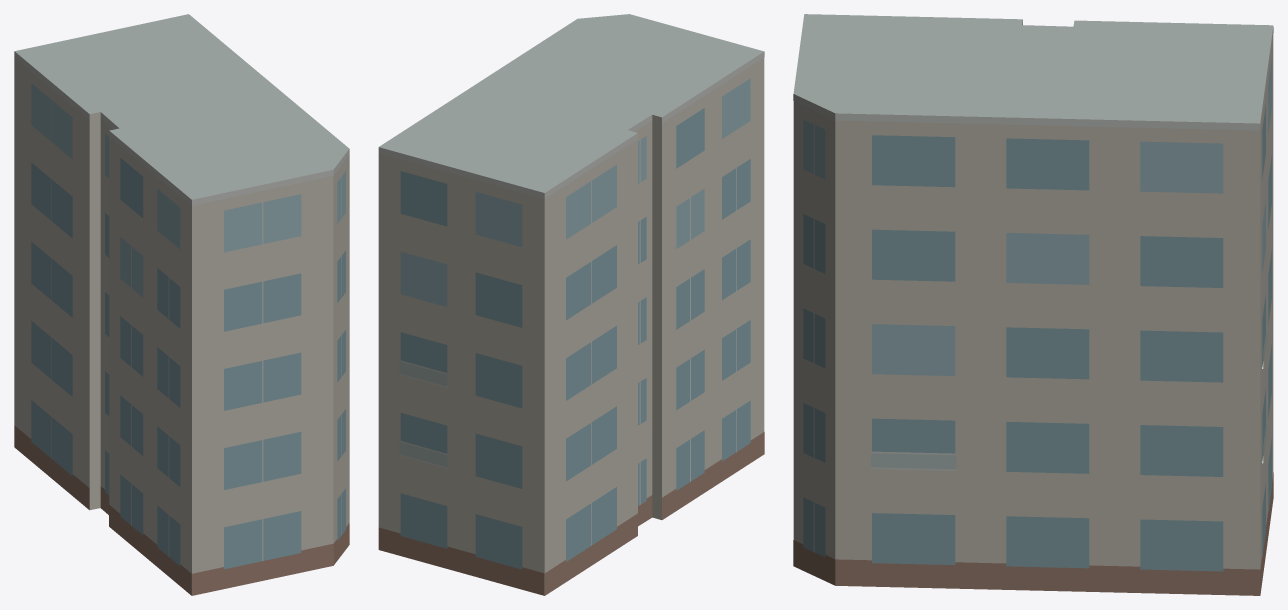
The model's file is survey-upis-32933987.glb.
3 views of the same model, side by side, from view 1: azimuth 30°, elevation 25°; view 2: azimuth 150°, elevation 25°; view 3: azimuth 270°, elevation 25° (orthographic). The views are drawn at different scales.
Parts seen in each view (by area): view 1: survey-upis-32933987.tmp; view 2: survey-upis-32933987.tmp; view 3: survey-upis-32933987.tmp.
Boxes of the visible parts, box(x1,y1,x2,y2) form: survey-upis-32933987.tmp: box(14, 14, 349, 595); survey-upis-32933987.tmp: box(378, 14, 764, 595); survey-upis-32933987.tmp: box(793, 14, 1273, 595).
Size of the model in its own units: 8.06 by 16.2 by 14.93.
